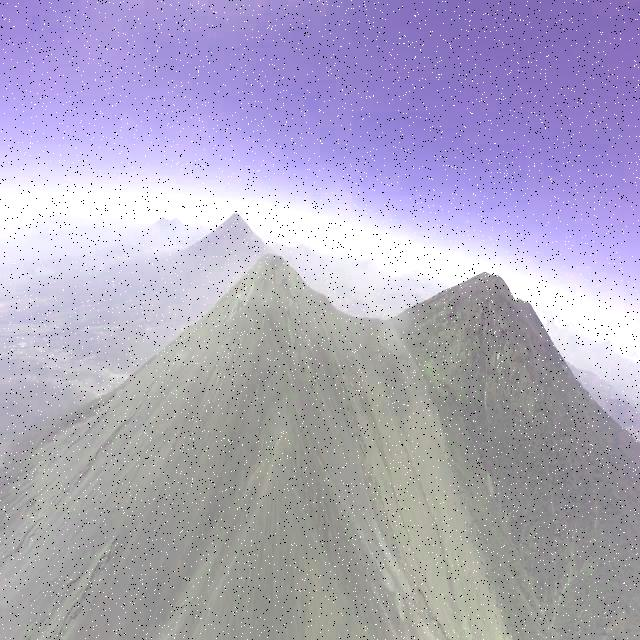Summit: (226, 247, 307, 310)
